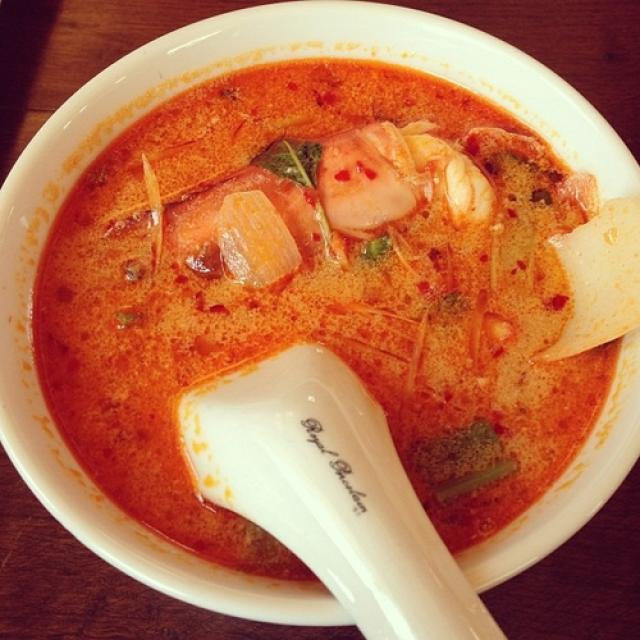汤锅炖物: (37, 37, 617, 599)
